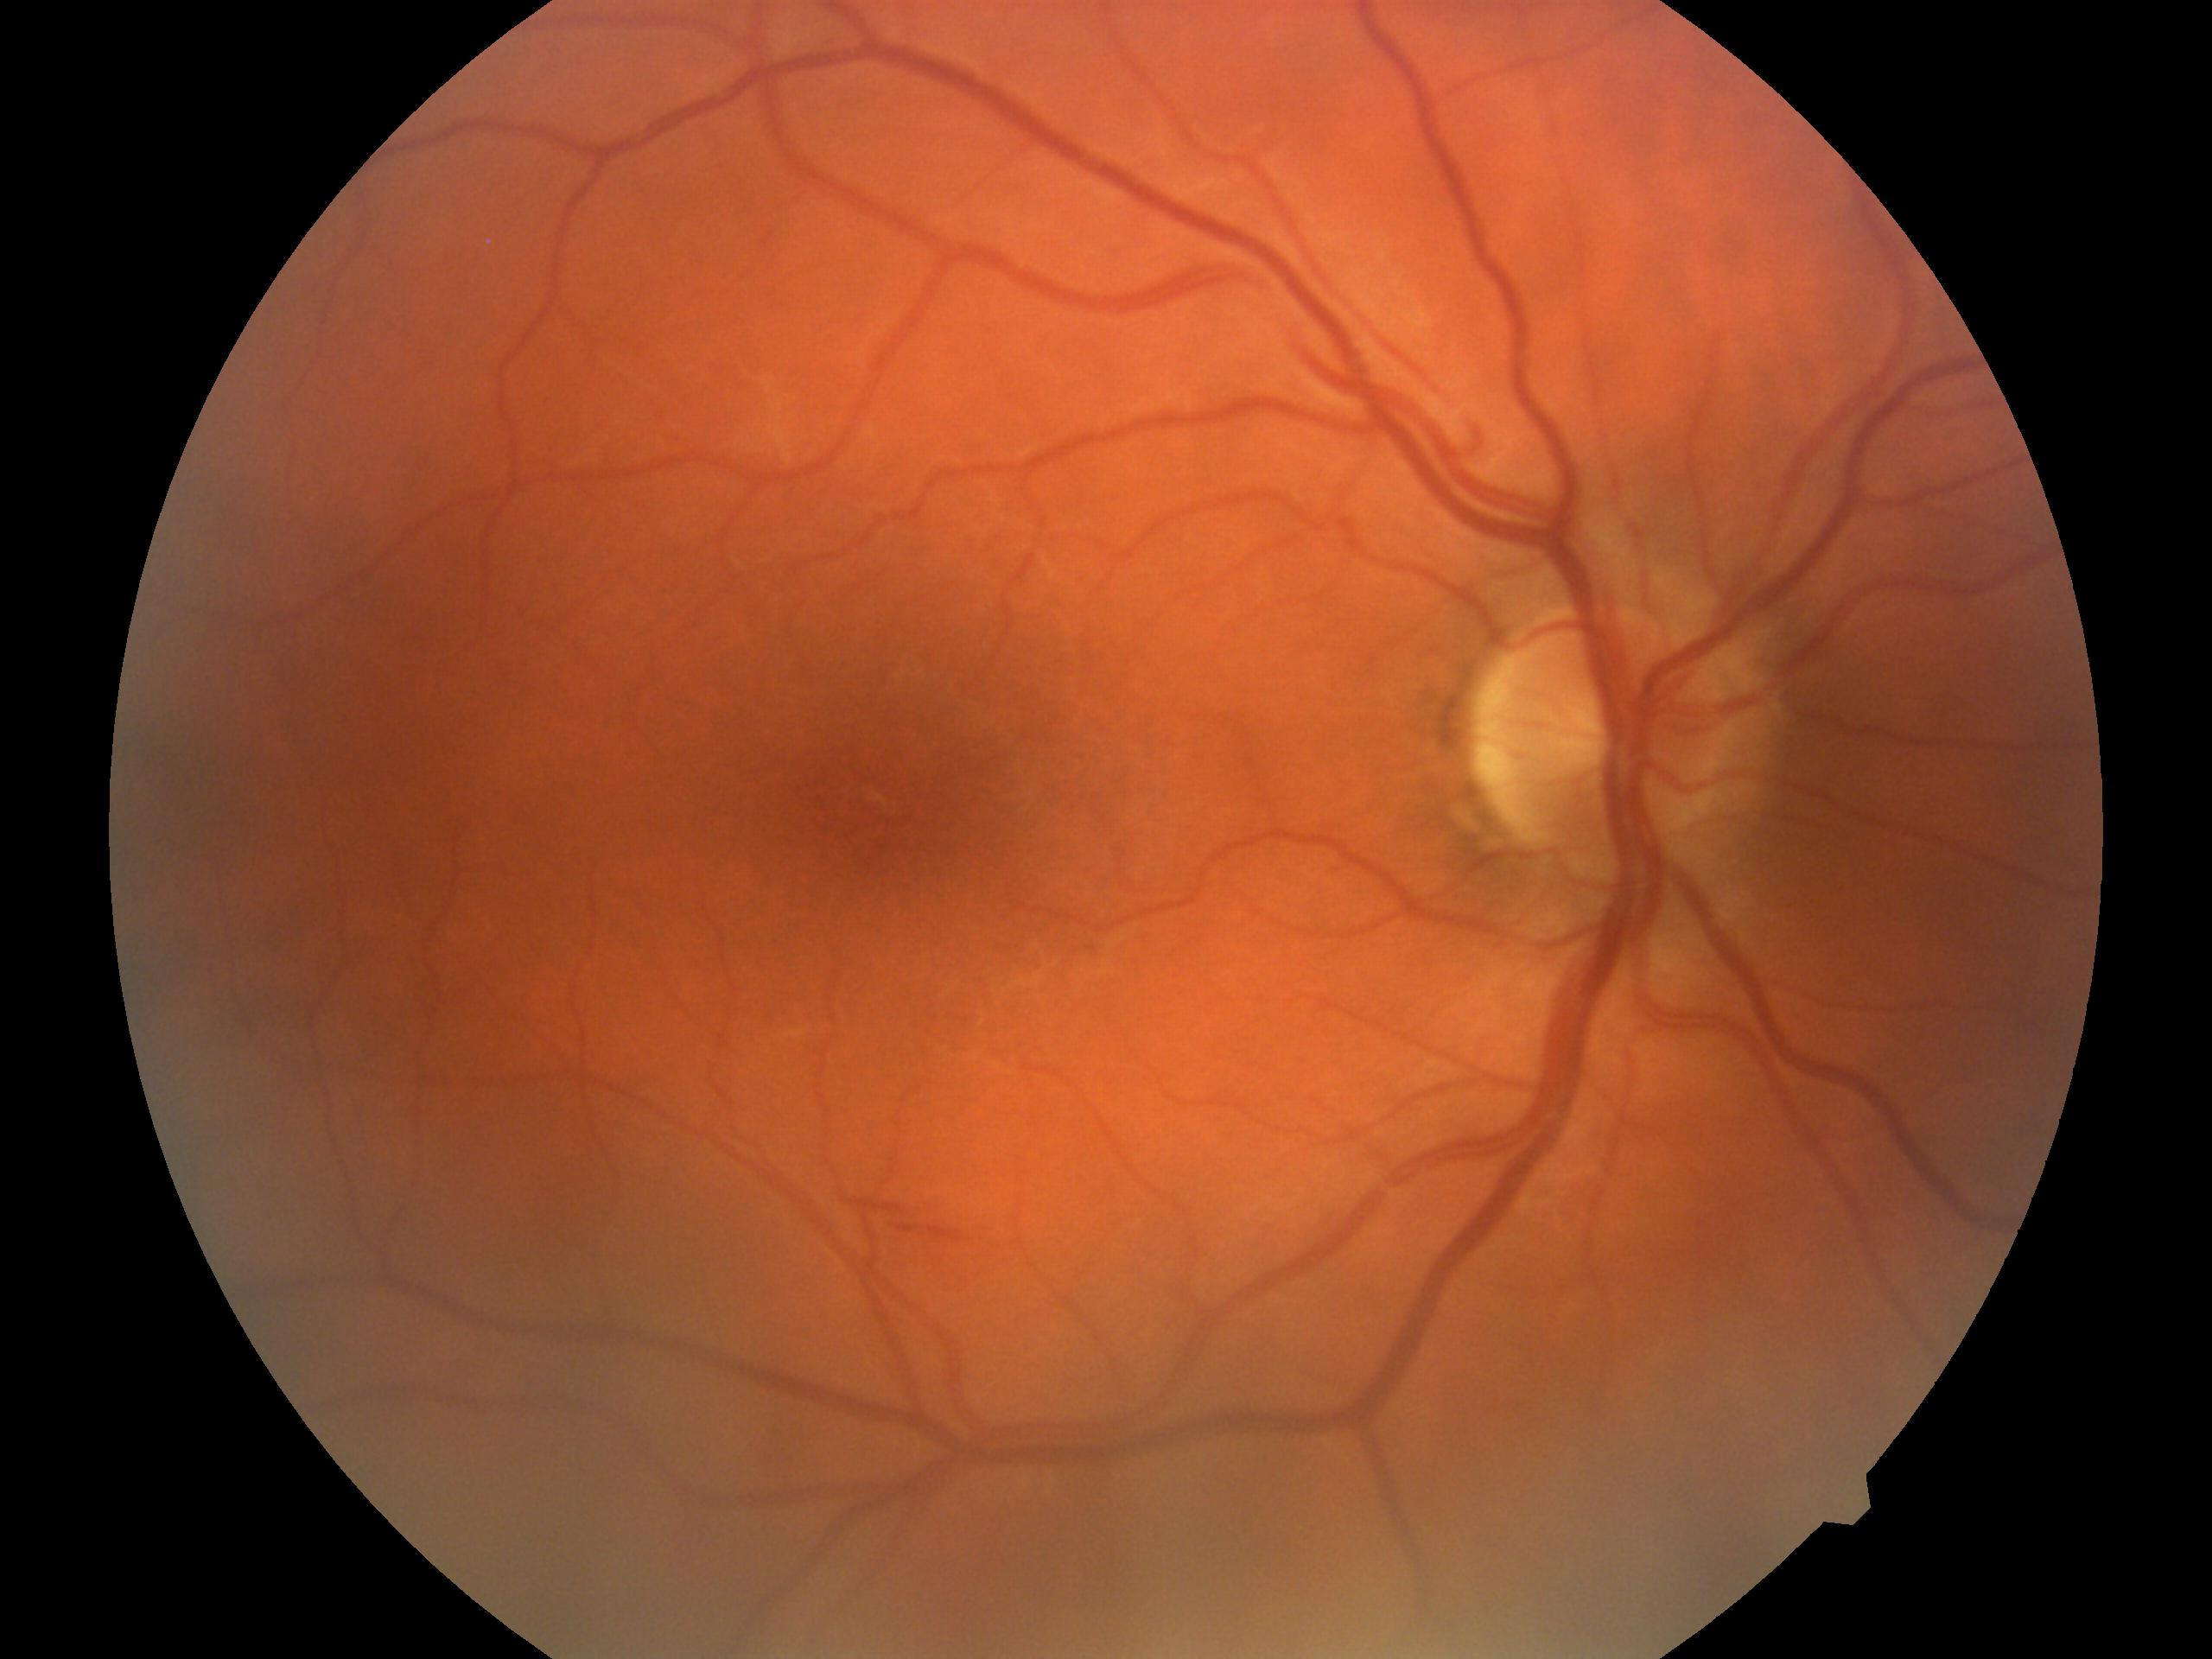Optic-nerve: (1439, 591, 1766, 904)
macula: (738, 678, 1007, 903)
notch: (1815, 1469, 1885, 1547)
